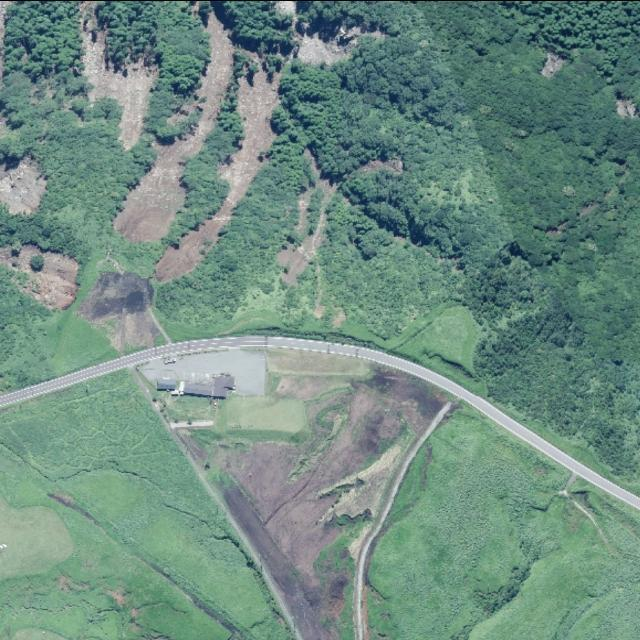landslide: (218, 385, 452, 574), (113, 11, 234, 239), (154, 68, 278, 280), (0, 243, 77, 308), (0, 155, 45, 212), (277, 231, 321, 284)
